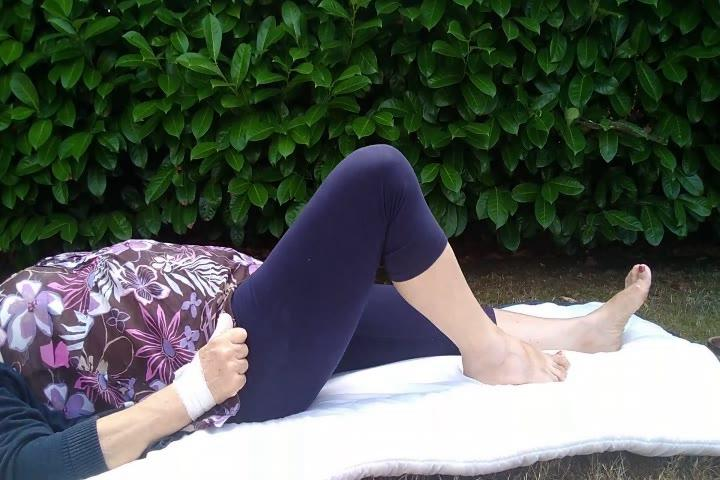lower_body: (221, 139, 658, 432)
